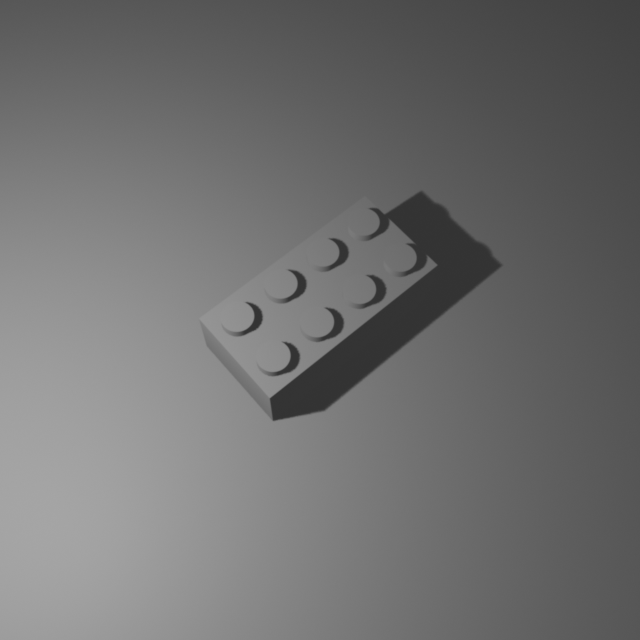lego_2x4: (197, 190, 439, 421)
